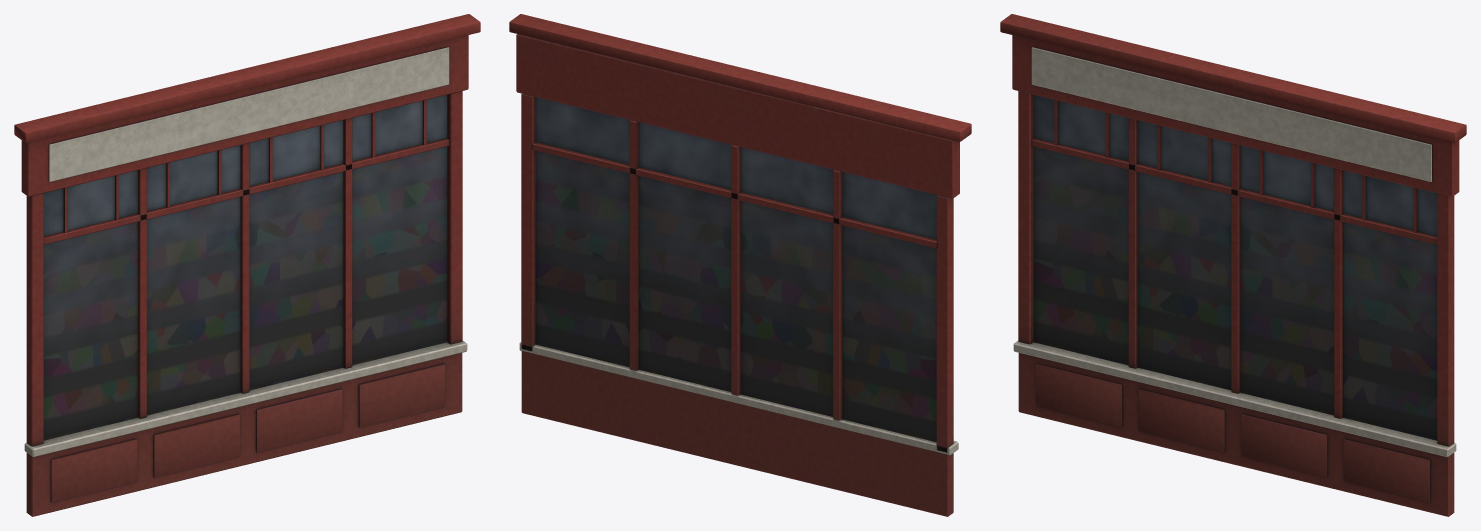
Rendered from shop_town_40_red.glb.
3 views of the same model, side by side, from view 1: azimuth 30°, elevation 25°; view 2: azimuth 150°, elevation 25°; view 3: azimuth 330°, elevation 25° (orthographic).
Parts seen in each view (by area): view 1: shop_town_40_red; view 2: shop_town_40_red; view 3: shop_town_40_red.
Part boxes in pixels (left/top/right/bottom): shop_town_40_red: left=14, top=14, right=480, bottom=516; shop_town_40_red: left=509, top=14, right=971, bottom=516; shop_town_40_red: left=1000, top=14, right=1466, bottom=516.
Bounding box in the file's own units: 4.44 × 3.65 × 0.2.
Materials: 1 (1 with a texture image).
